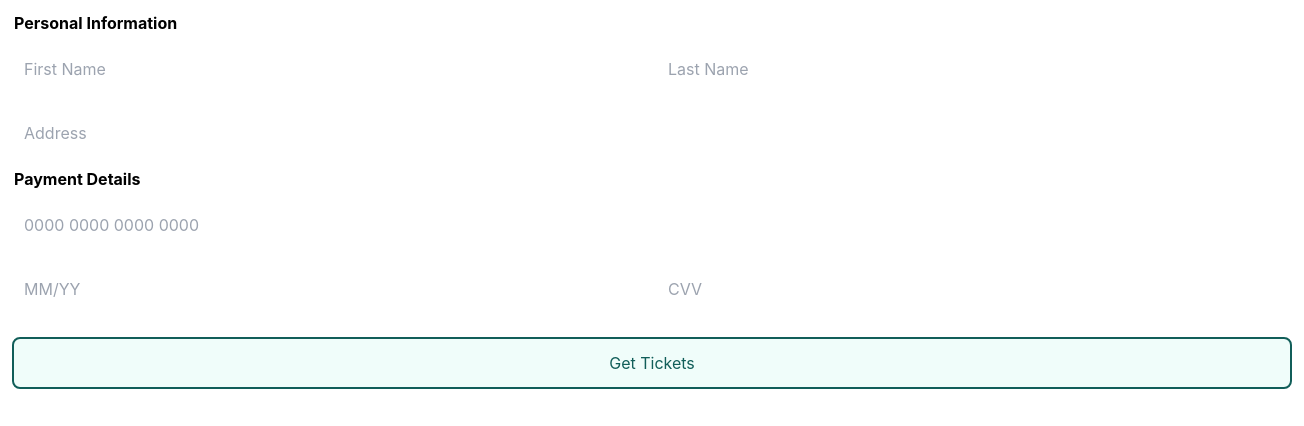
PersonalInformationForm › shows error when first name contains non-letters
Type "Fiona123" into the field with placeholder "First Name" at point(330, 69), box [12,45,648,93]
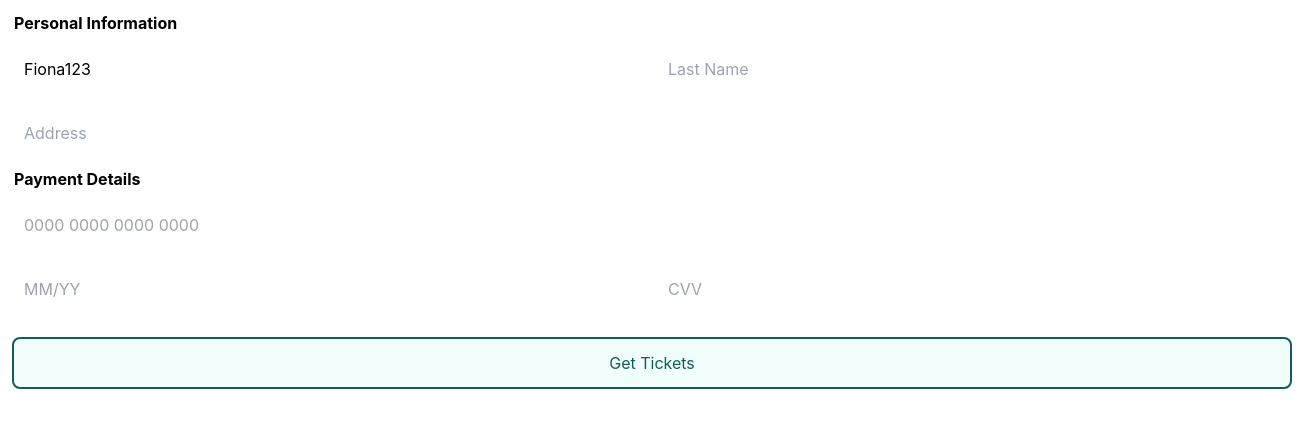
Leave the field with placeholder "First Name", box [12,45,648,93]
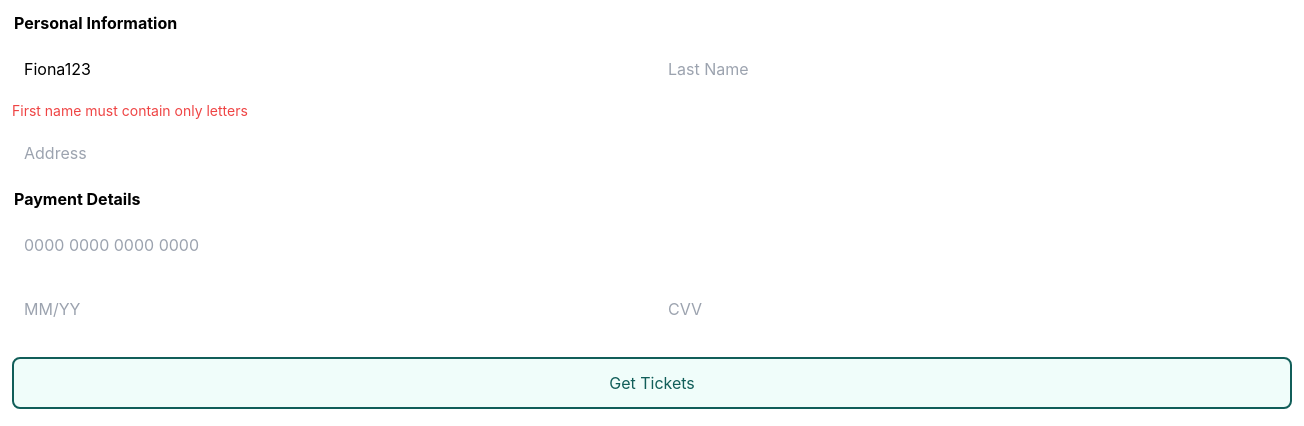
Check: the text "First name must contain only letters" is shown, box [12,102,248,119]
